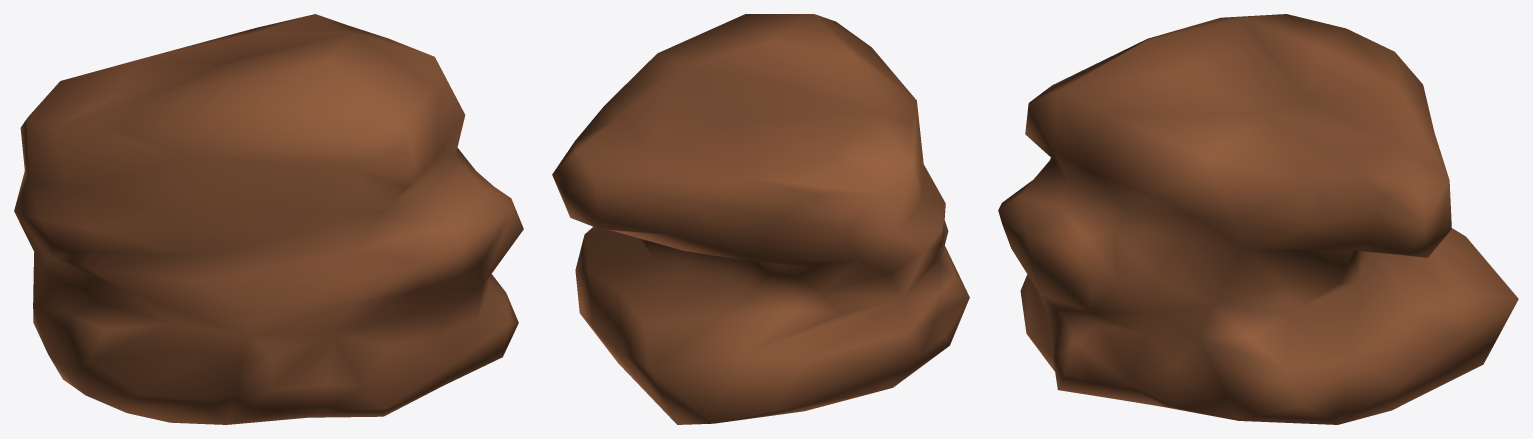
File: Cliffs_2_Desert_Village.fbx
3 renders of one model, left to right at view 1: azimuth 30°, elevation 25°; view 2: azimuth 150°, elevation 25°; view 3: azimuth 270°, elevation 25°, orthographic. The views are drawn at different scales.
Visible parts, largest first — view 1: Cliffs_2_Desert Village; view 2: Cliffs_2_Desert Village; view 3: Cliffs_2_Desert Village.
Boxes of the visible parts, x1,y1,x2,y2 form: Cliffs_2_Desert Village: [14, 14, 523, 424]; Cliffs_2_Desert Village: [552, 14, 969, 424]; Cliffs_2_Desert Village: [998, 14, 1518, 424].
Size of the model in its own units: 1071 by 809 by 1186.
